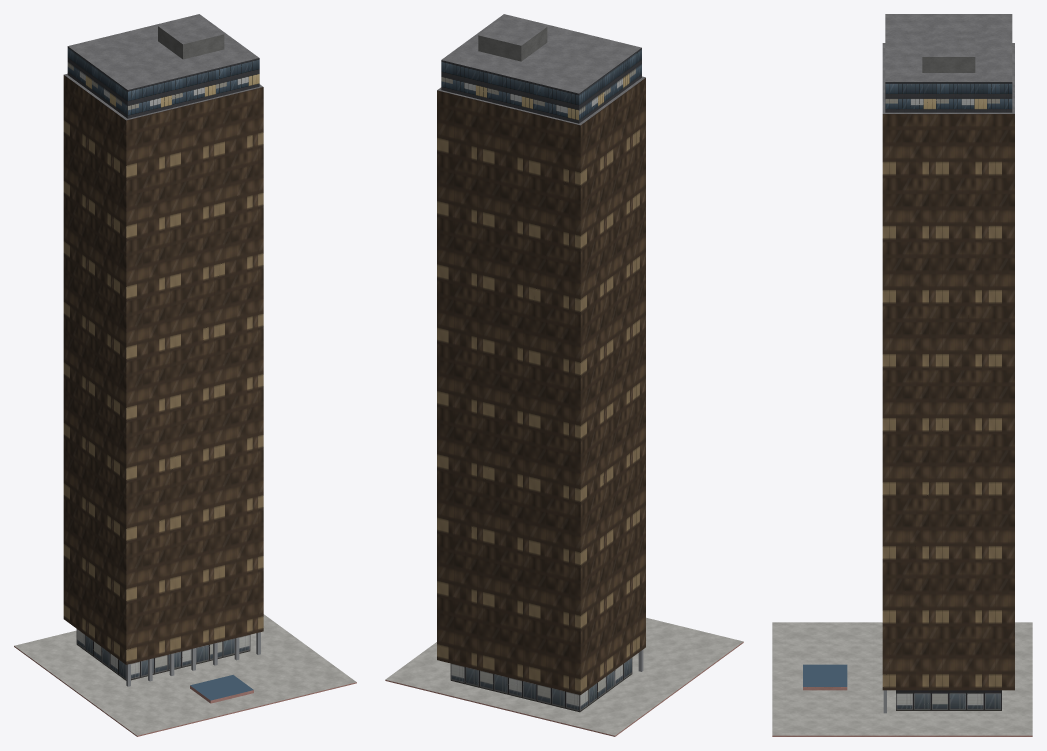
File: 044_glass_bronze.glb
The picture shows the model from 3 angles, left to right: view 1: azimuth 30°, elevation 25°; view 2: azimuth 150°, elevation 25°; view 3: azimuth 270°, elevation 25°; orthographic projection. The views are drawn at different scales.
Parts seen in each view (by area): view 1: 044_glass_bronze; view 2: 044_glass_bronze; view 3: 044_glass_bronze.
Part boxes in pixels (<box>): 044_glass_bronze: <box>14,14,356,736</box>; 044_glass_bronze: <box>385,14,743,736</box>; 044_glass_bronze: <box>772,14,1032,736</box>.
Bounding box in the file's own units: 60.8 × 162 × 59.
Materials: 9 (7 with a texture image).
